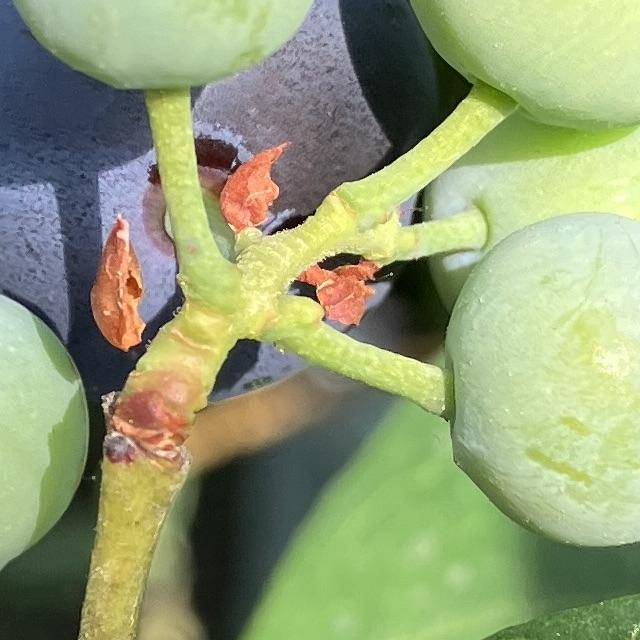Blueberries: (436, 209, 640, 548), (0, 0, 327, 96)
